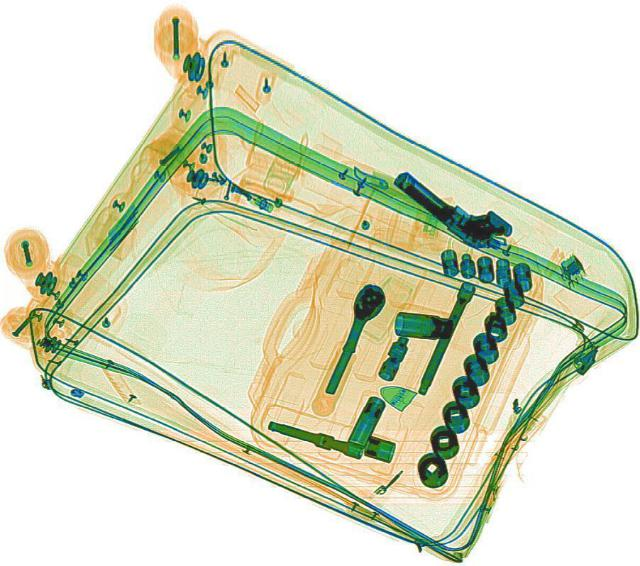Gun: (387, 150, 517, 259)
